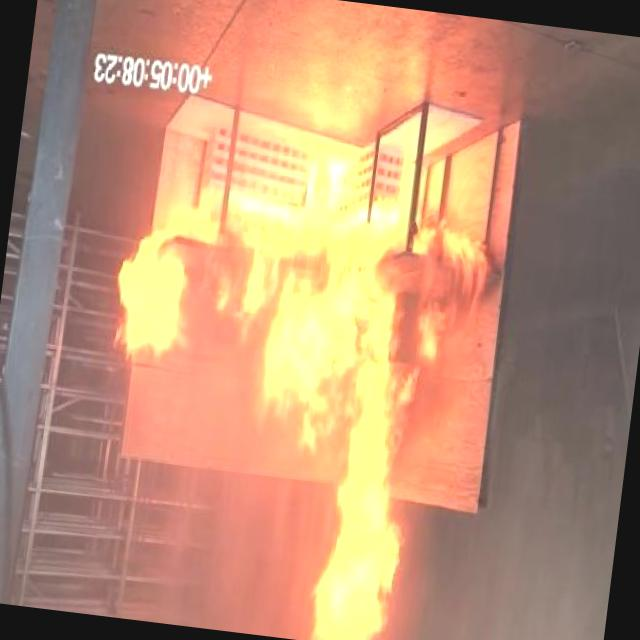fire: (80, 174, 495, 640)
